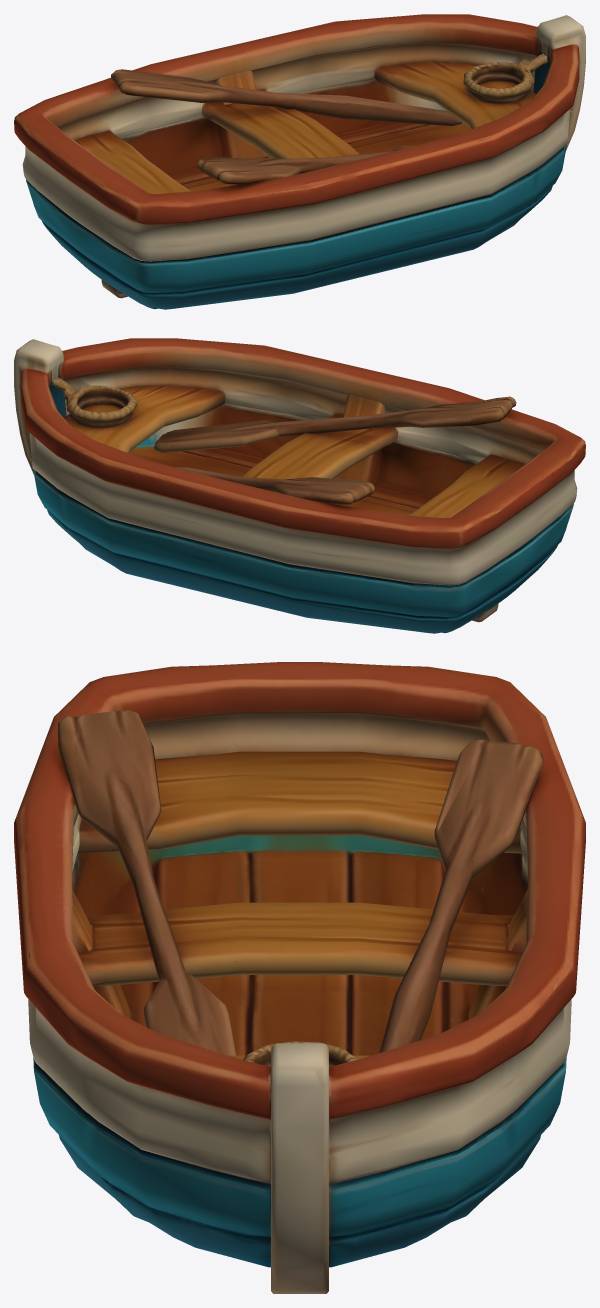
The model's file is model_url.glb.
3 renders of one model, top to bottom at view 1: azimuth 30°, elevation 25°; view 2: azimuth 150°, elevation 25°; view 3: azimuth 270°, elevation 25°, orthographic. The views are drawn at different scales.
Parts seen in each view (by area): view 1: tripo_node_f31836b5-1824-4d37-b583-1cb86fa4322d; view 2: tripo_node_f31836b5-1824-4d37-b583-1cb86fa4322d; view 3: tripo_node_f31836b5-1824-4d37-b583-1cb86fa4322d.
Boxes of the visible parts, left/top/right/bottom form: tripo_node_f31836b5-1824-4d37-b583-1cb86fa4322d: left=14, top=14, right=585, bottom=309; tripo_node_f31836b5-1824-4d37-b583-1cb86fa4322d: left=14, top=338, right=585, bottom=633; tripo_node_f31836b5-1824-4d37-b583-1cb86fa4322d: left=14, top=662, right=585, bottom=1293.
Size of the model in its own units: 1 by 0.3014 by 0.5616.
Materials: 1 (1 with a texture image).
